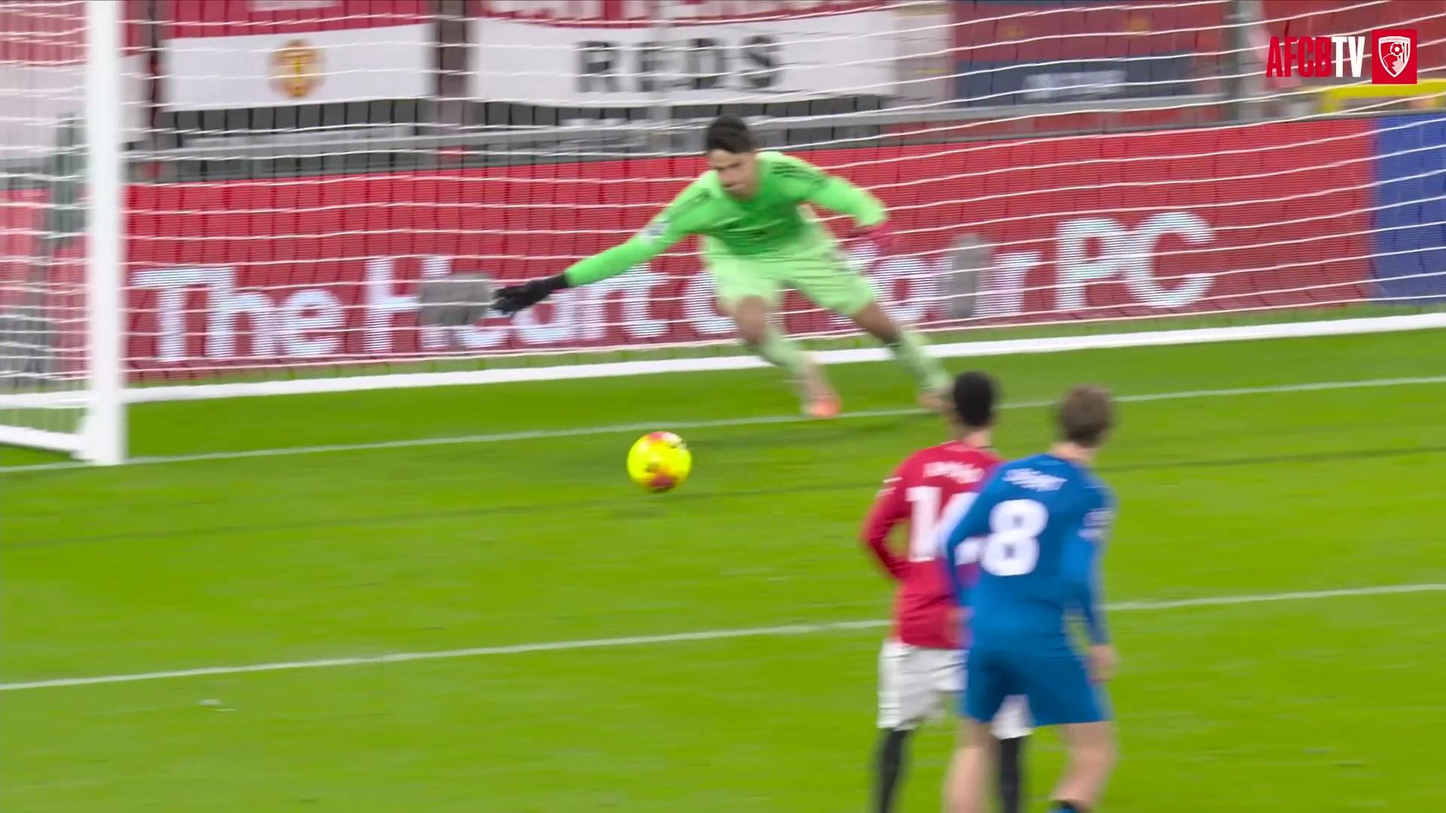football: (627, 431, 691, 492)
player: (493, 117, 948, 417), (944, 386, 1115, 812), (862, 372, 1001, 812)
